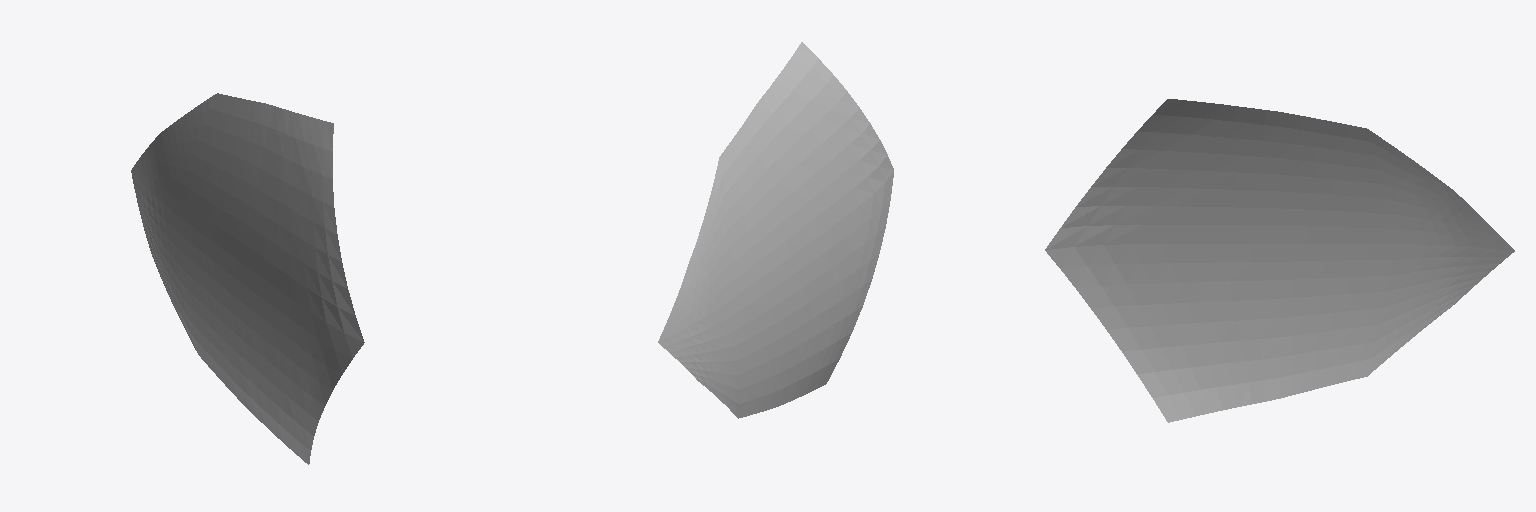
File: Cube_HyruleShield_Wood_mat_0.obj
3 renders of one model, left to right at view 1: azimuth 30°, elevation 25°; view 2: azimuth 150°, elevation 25°; view 3: azimuth 270°, elevation 25°, orthographic.
Parts seen in each view (by area): view 1: Cube_HyruleShield_Wood_mat_0; view 2: Cube_HyruleShield_Wood_mat_0; view 3: Cube_HyruleShield_Wood_mat_0.
Boxes of the visible parts, <box> form: Cube_HyruleShield_Wood_mat_0: <box>131,93,364,464</box>; Cube_HyruleShield_Wood_mat_0: <box>658,42,893,418</box>; Cube_HyruleShield_Wood_mat_0: <box>1045,99,1514,422</box>.
Bounding box in the file's own units: 0.0546 × 0.4 × 0.5069.